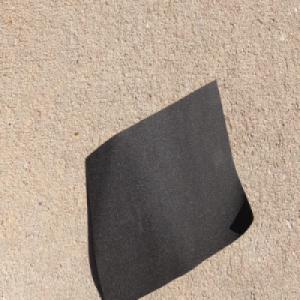PaintChip: (86, 78, 255, 299)
